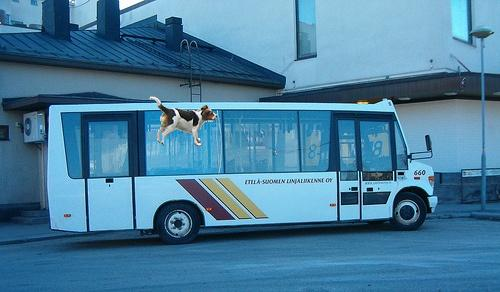tampered: (150, 97, 217, 146)
